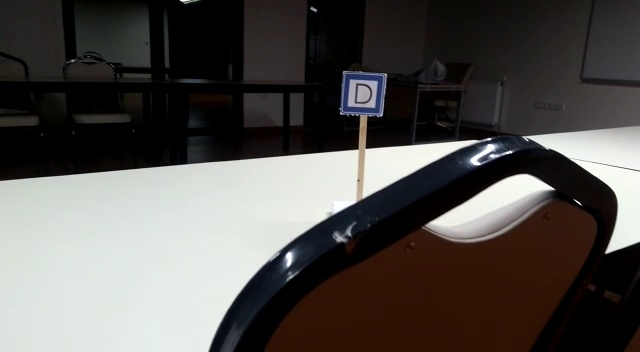durak: (339, 72, 386, 116)
